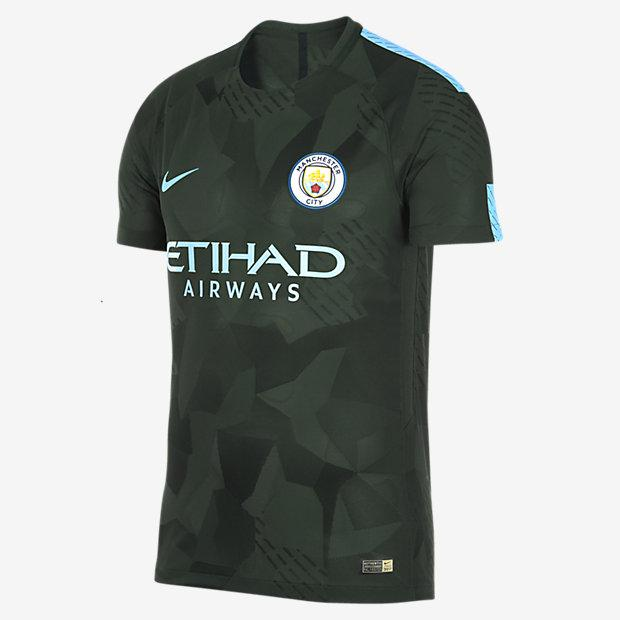teeshirt: (95, 10, 518, 620)
